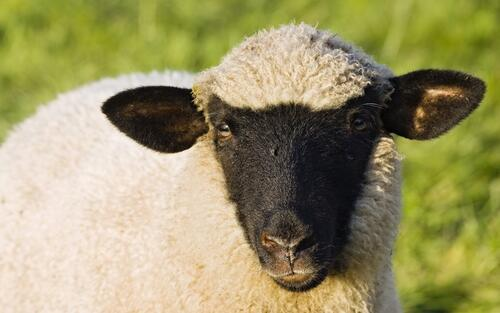sheep: (0, 24, 487, 313)
